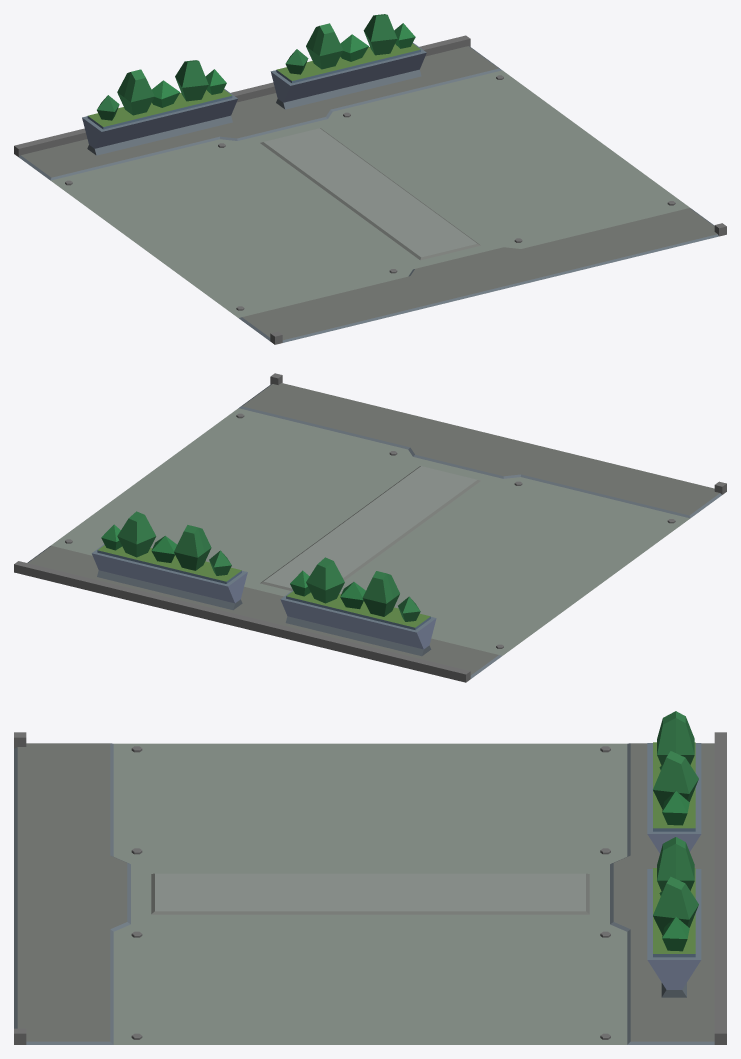
Rendered from Fork_B.gltf.
The picture shows the model from 3 angles, top to bottom: view 1: azimuth 30°, elevation 25°; view 2: azimuth 150°, elevation 25°; view 3: azimuth 270°, elevation 25°; orthographic projection. The views are drawn at different scales.
Parts seen in each view (by area): view 1: Scifi_Panel_01 Plaza014_group4.037; view 2: Scifi_Panel_01 Plaza014_group4.037; view 3: Scifi_Panel_01 Plaza014_group4.037.
Boxes of the visible parts, bbox=[...] form: Scifi_Panel_01 Plaza014_group4.037: bbox=[14, 14, 726, 344]; Scifi_Panel_01 Plaza014_group4.037: bbox=[14, 373, 726, 682]; Scifi_Panel_01 Plaza014_group4.037: bbox=[14, 711, 726, 1044].
Size of what is drawn, in the model's own units: 10 by 1.52 by 10.
1 material, 1 textured.
